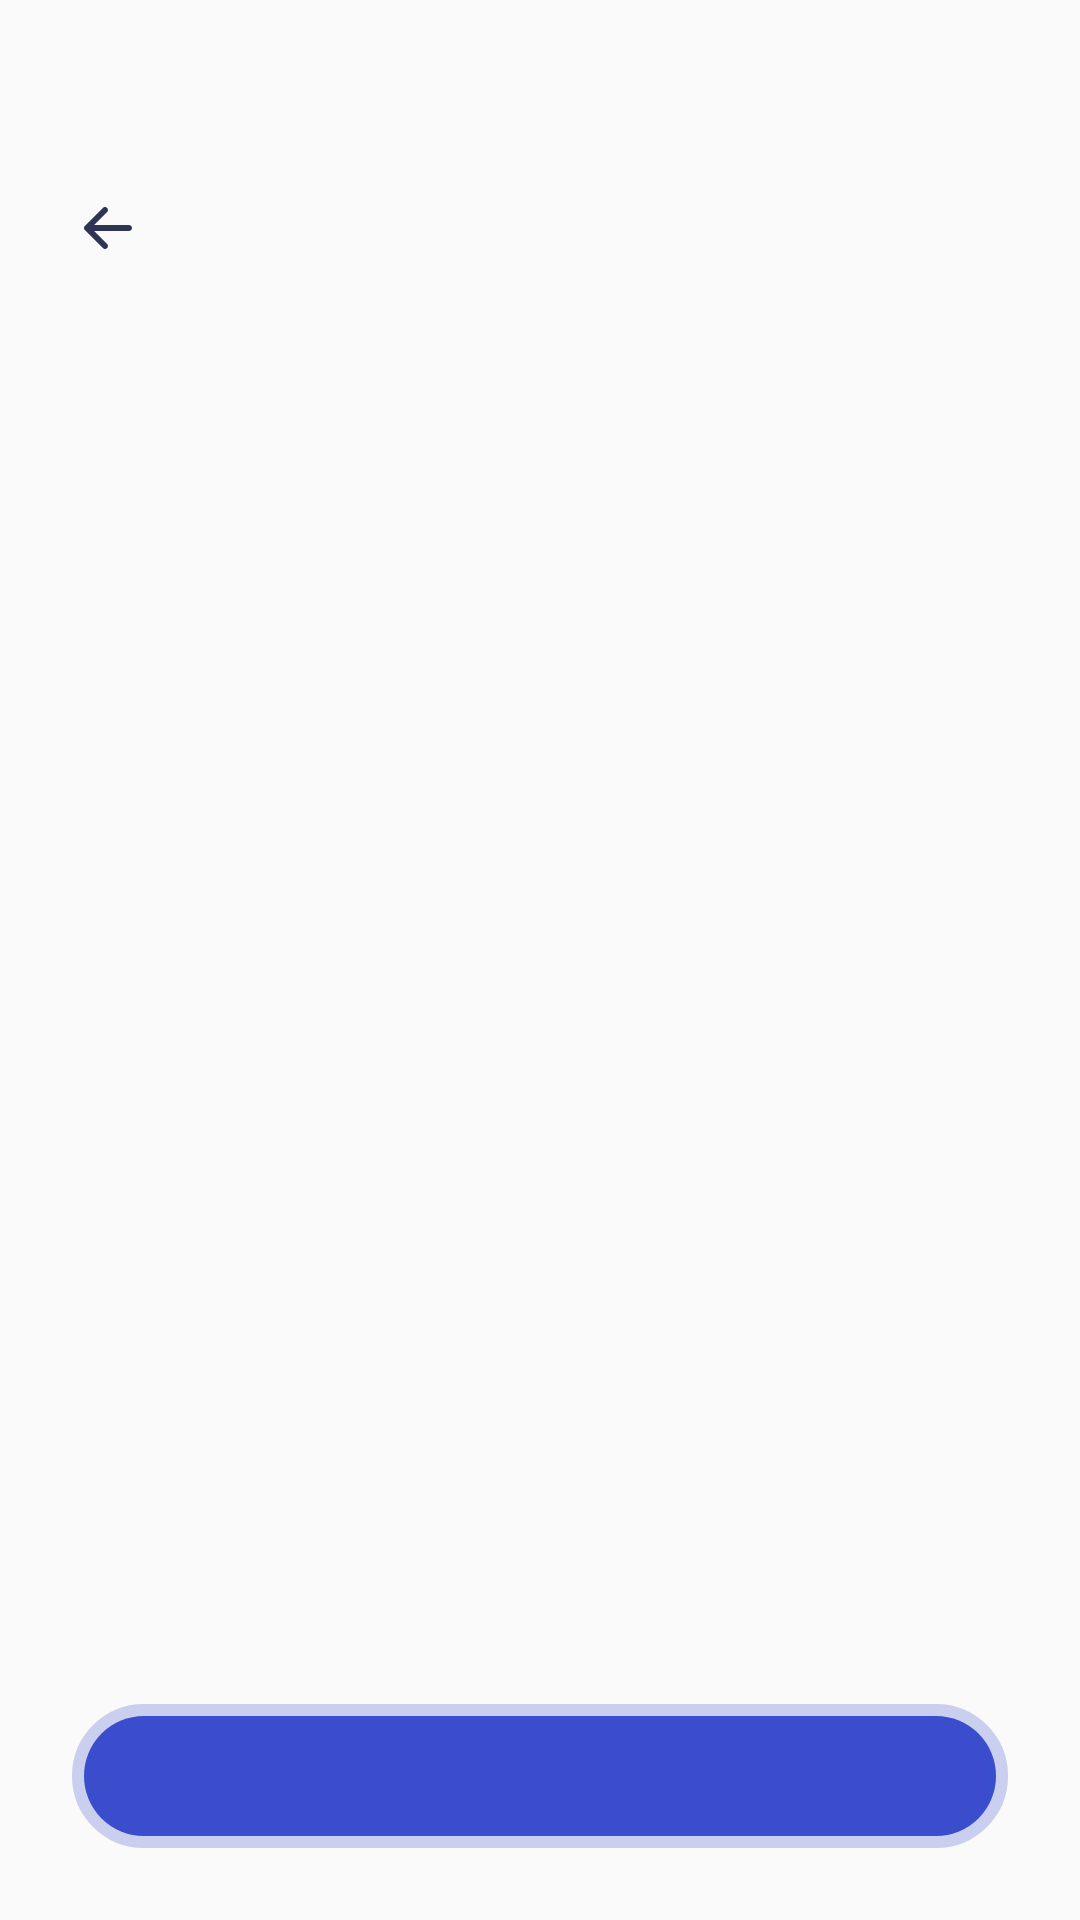

Screen size 1080 × 1920. Icon name, then its box in pixels as (x1=x1, y1=y1, x2=x2, y2=y2):
back: (x1=84, y1=207, x2=132, y2=249)
